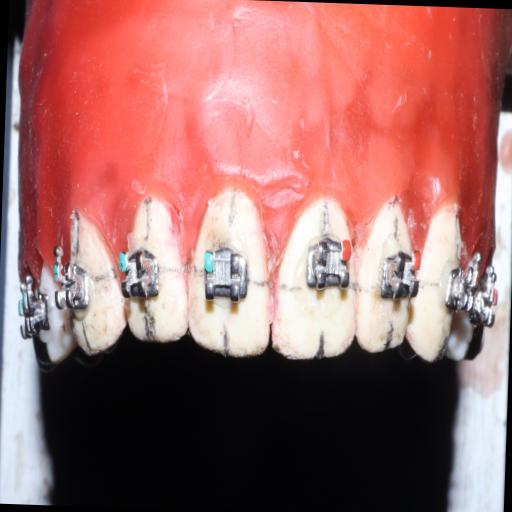correct_brace: (198, 242, 254, 310)
incorrect_brace: (303, 232, 354, 298)
